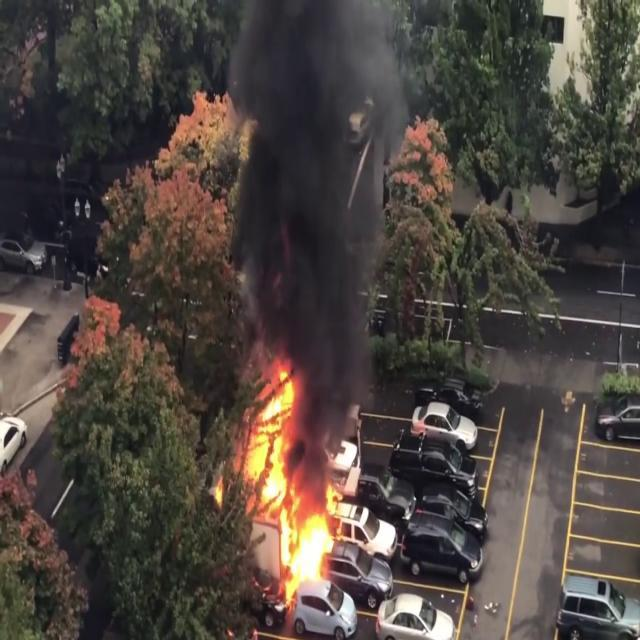Fire: (238, 359, 356, 598)
Smoke: (220, 0, 412, 420)
